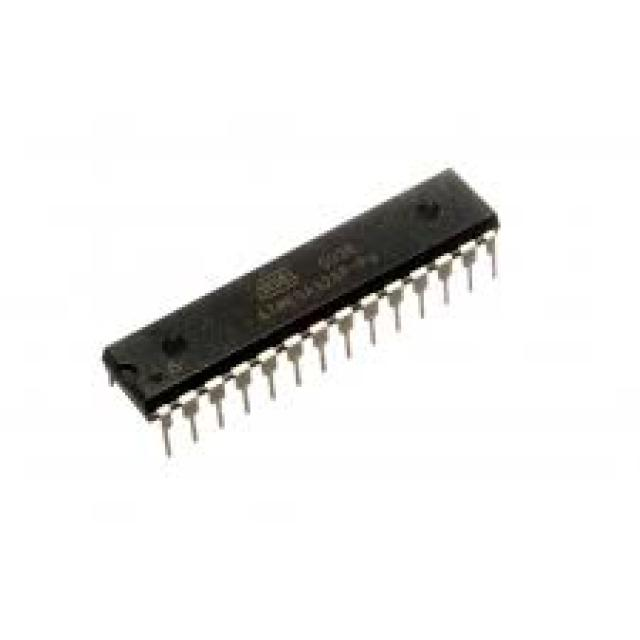atmega: (96, 162, 504, 461)
